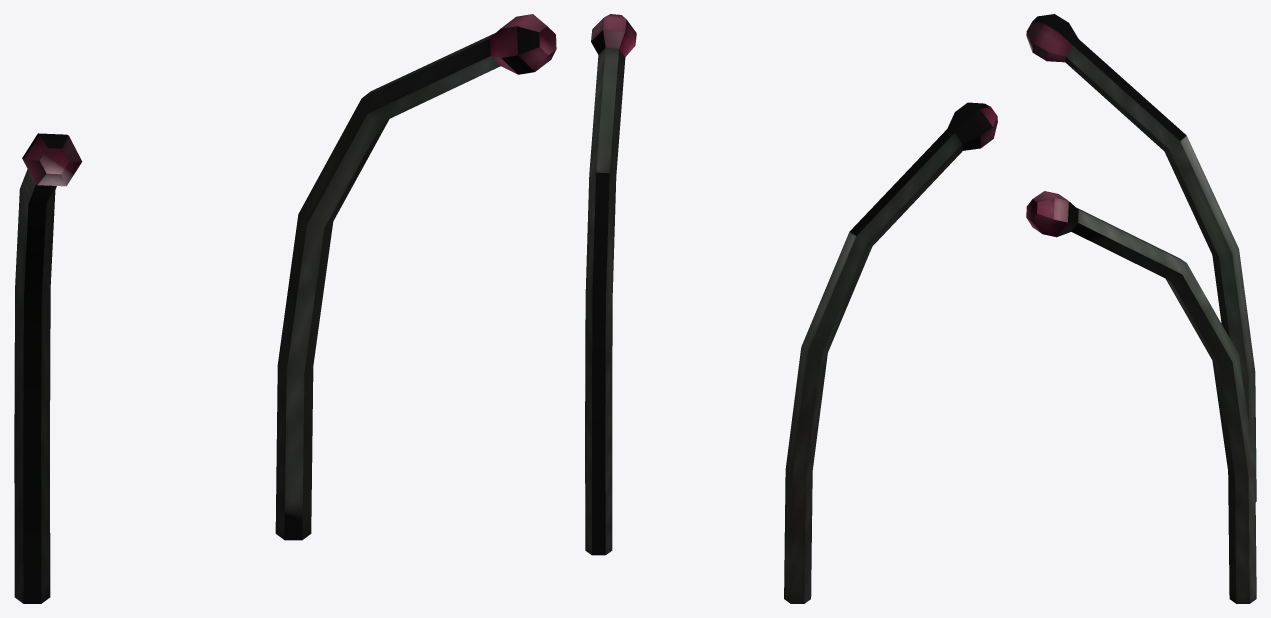
The model's file is bugeyes.obj.
The picture shows the model from 3 angles, left to right: view 1: azimuth 30°, elevation 25°; view 2: azimuth 150°, elevation 25°; view 3: azimuth 270°, elevation 25°; orthographic projection. The views are drawn at different scales.
Visible parts, largest first — view 1: Object011; view 2: Object011; view 3: Object011.
Boxes of the visible parts, bbox=[...] form: Object011: bbox=[14, 14, 556, 603]; Object011: bbox=[585, 14, 997, 603]; Object011: bbox=[1026, 14, 1256, 603].
Bounding box in the file's own units: 13.68 × 14.45 × 6.79.
1 material, 1 textured.
